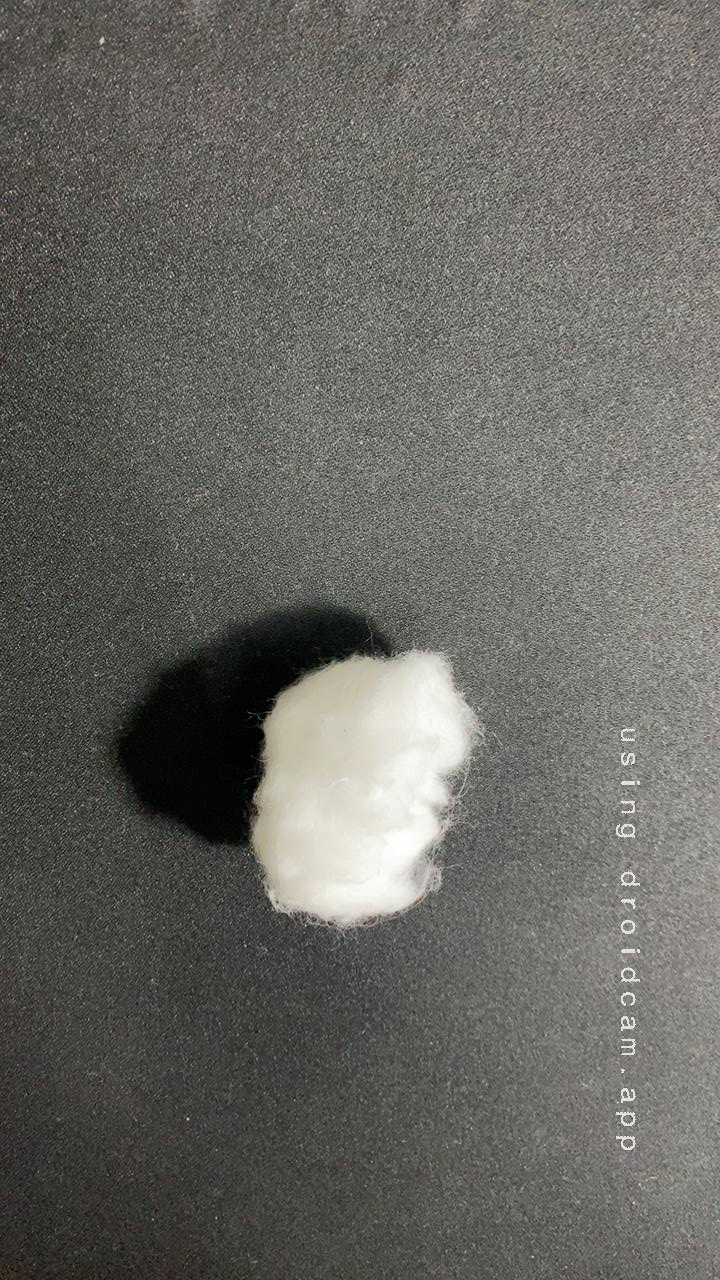cotton: (229, 632, 512, 946)
